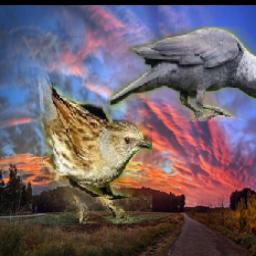Crow: (108, 28, 256, 122)
Sparrow: (22, 36, 152, 223)
